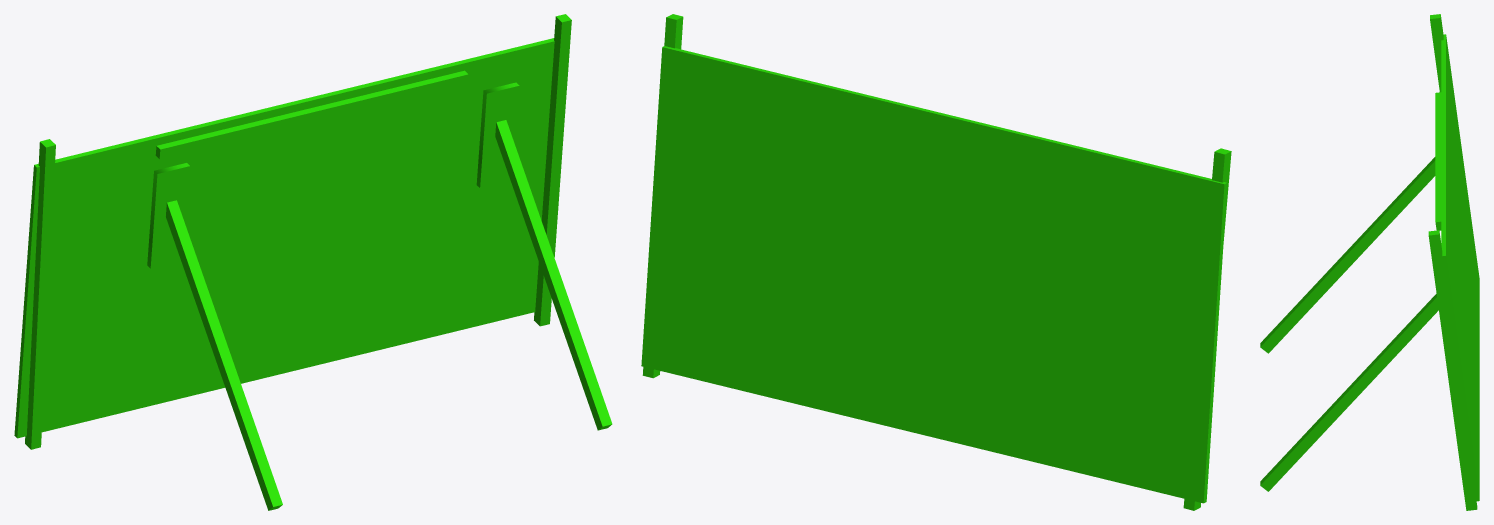
Rendered from Signboard_Wood_02.fbx.
The picture shows the model from 3 angles, left to right: view 1: azimuth 30°, elevation 25°; view 2: azimuth 150°, elevation 25°; view 3: azimuth 270°, elevation 25°; orthographic projection. The views are drawn at different scales.
Visible parts, largest first — view 1: Signboard_Wood_02; view 2: Signboard_Wood_02; view 3: Signboard_Wood_02.
Boxes of the visible parts, x1,y1,x2,y2 form: Signboard_Wood_02: [14, 14, 612, 510]; Signboard_Wood_02: [641, 14, 1231, 510]; Signboard_Wood_02: [1260, 14, 1479, 510].
Size of the model in its own units: 280 by 166 by 117.
